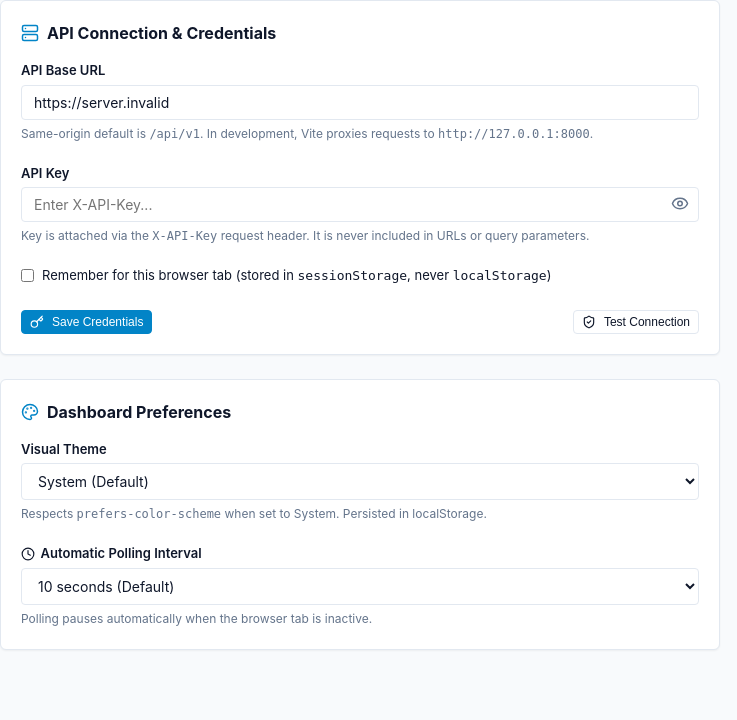
Test: Settings Page › handles test connection successfully
Click the button "Test Connection". click: (636, 322)
box: [573,310,699,334]
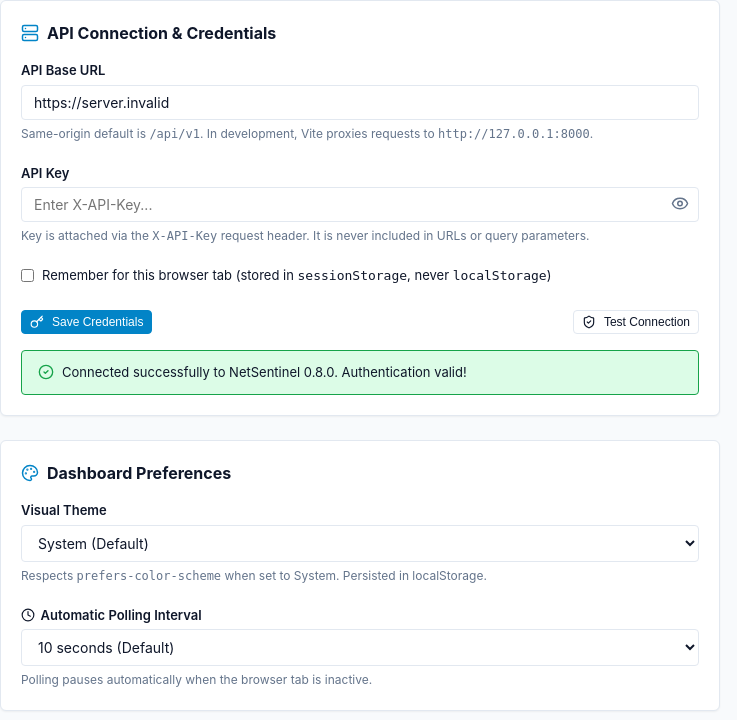
expect the text "Connected successfully to NetSentinel" is shown: met, box [62,364,467,380]
